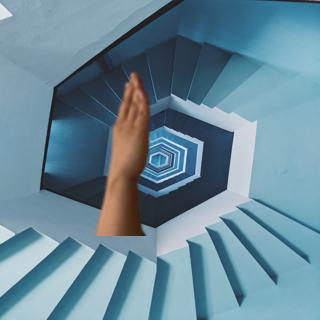RIGHT: (105, 65, 155, 188)
